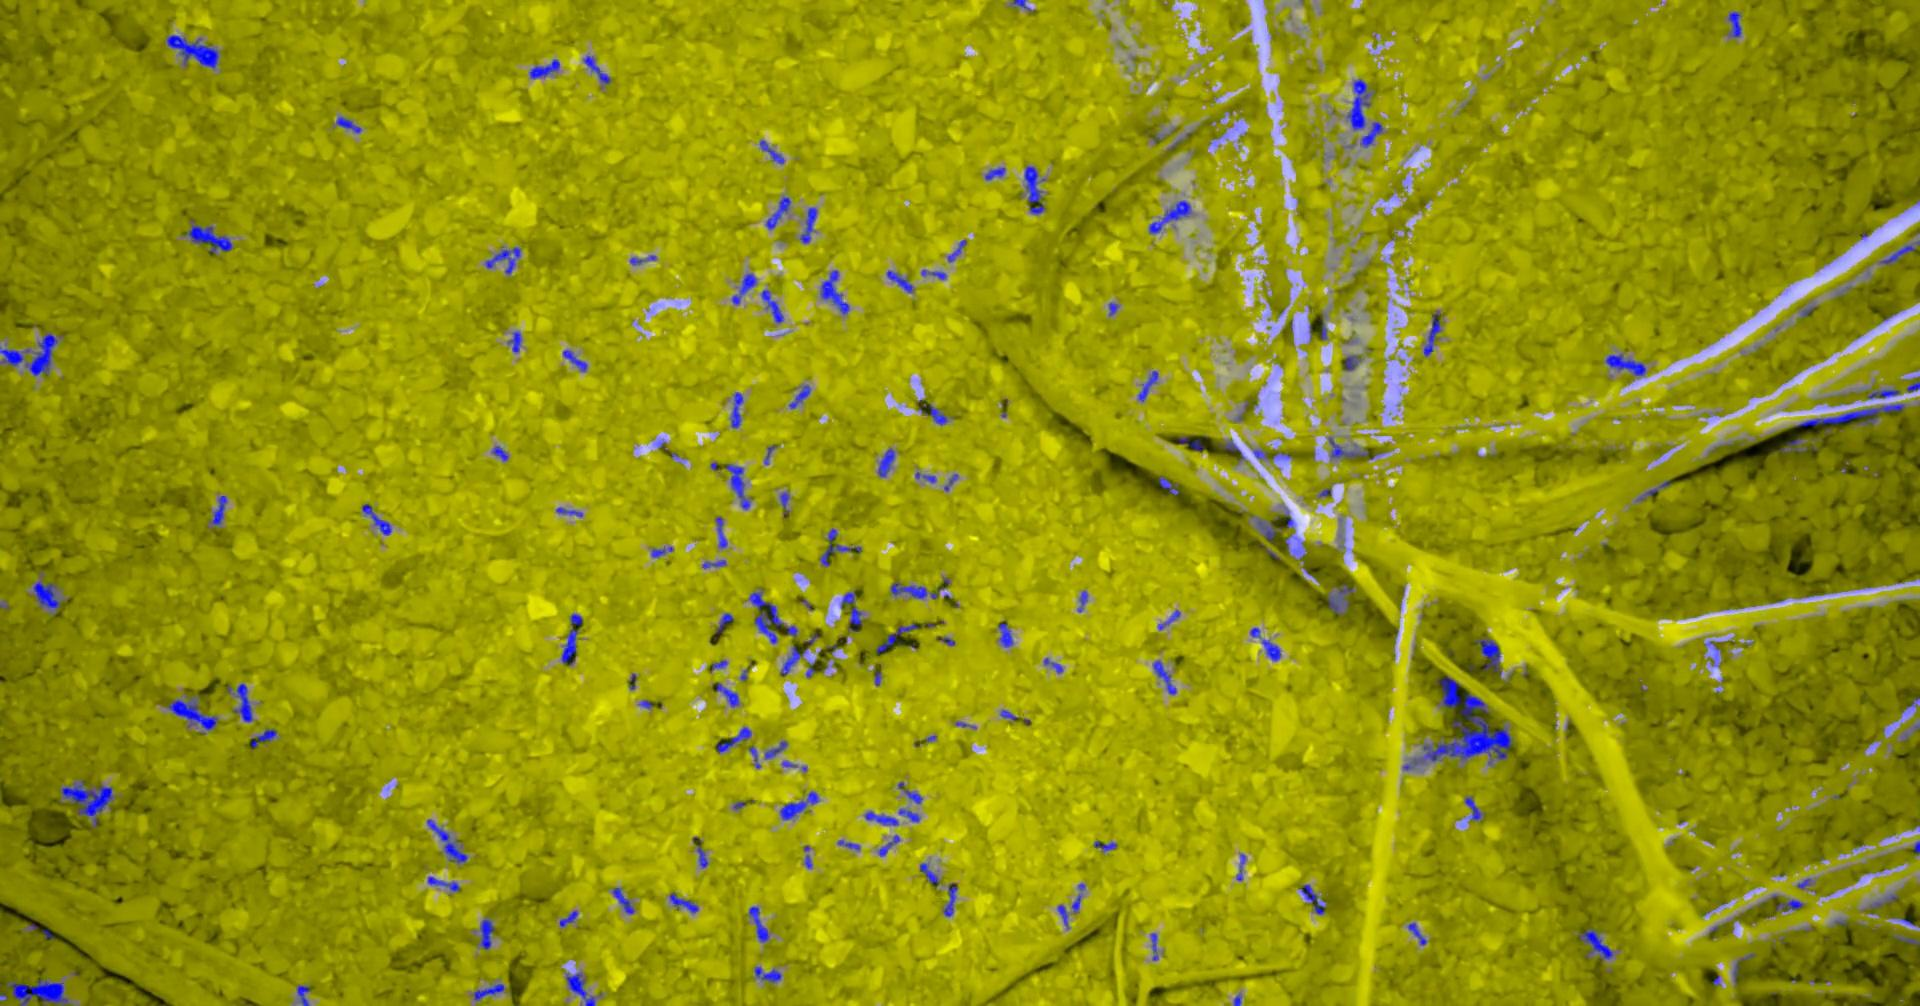ant: (1794, 403, 1903, 433), (749, 592, 797, 643), (60, 780, 112, 826), (425, 818, 467, 862), (166, 34, 218, 69), (184, 218, 232, 253), (168, 697, 217, 730), (5, 979, 67, 1005), (820, 528, 861, 565), (1148, 199, 1190, 232), (25, 333, 57, 375), (876, 622, 919, 653), (820, 271, 850, 312), (725, 464, 749, 509), (778, 791, 818, 819), (1347, 79, 1369, 130), (1578, 927, 1611, 960), (561, 614, 582, 664), (1023, 165, 1044, 213), (361, 503, 391, 535), (566, 972, 596, 1005), (485, 246, 521, 273), (716, 727, 750, 752), (780, 644, 808, 674), (1879, 241, 1919, 263), (1605, 353, 1644, 375), (1328, 437, 1368, 459), (764, 196, 790, 229), (841, 591, 861, 631), (759, 290, 783, 323), (1474, 638, 1498, 671), (890, 582, 937, 598), (1327, 583, 1352, 614), (1423, 310, 1440, 356), (1152, 661, 1175, 694), (748, 906, 768, 942), (583, 55, 610, 83), (33, 580, 60, 608), (731, 273, 756, 304), (232, 683, 251, 721), (1302, 884, 1324, 915), (799, 207, 817, 243), (1138, 370, 1157, 401), (759, 138, 783, 163), (1360, 121, 1382, 147), (612, 887, 634, 913), (669, 892, 697, 912), (530, 58, 559, 77), (715, 682, 738, 706), (886, 271, 912, 292), (922, 403, 947, 424), (863, 810, 898, 826), (1257, 520, 1281, 541), (472, 983, 503, 1000), (563, 349, 585, 371), (789, 385, 810, 408), (250, 728, 276, 747), (210, 495, 226, 525), (1217, 441, 1243, 459), (877, 835, 899, 856), (0, 345, 23, 366), (877, 448, 894, 476), (943, 883, 957, 916), (479, 920, 494, 949), (427, 876, 458, 890), (1643, 479, 1670, 495), (1407, 922, 1426, 945), (1177, 434, 1203, 451), (1158, 608, 1178, 629), (947, 239, 966, 260), (1261, 639, 1280, 661), (715, 614, 733, 636), (754, 967, 781, 982), (1770, 438, 1802, 451), (715, 516, 728, 547), (337, 116, 361, 132), (730, 392, 742, 427), (1158, 476, 1178, 495), (919, 862, 938, 883), (764, 741, 786, 758), (1464, 796, 1481, 819), (998, 622, 1012, 647), (1728, 11, 1741, 37), (1775, 899, 1802, 911), (1043, 657, 1062, 672), (1867, 389, 1898, 398), (898, 808, 919, 821), (559, 911, 577, 926), (507, 332, 521, 351), (984, 166, 1004, 179), (296, 984, 309, 1005), (1343, 354, 1360, 370), (904, 789, 922, 803), (1057, 904, 1068, 926), (921, 269, 945, 279), (697, 843, 707, 868), (629, 255, 655, 264), (555, 507, 582, 516), (651, 546, 672, 558), (1093, 840, 1116, 850), (491, 446, 508, 460), (1012, 0, 1031, 11), (780, 492, 789, 514), (702, 559, 725, 568), (916, 471, 935, 481), (837, 840, 858, 848), (1895, 936, 1919, 944), (1150, 934, 1157, 960)
